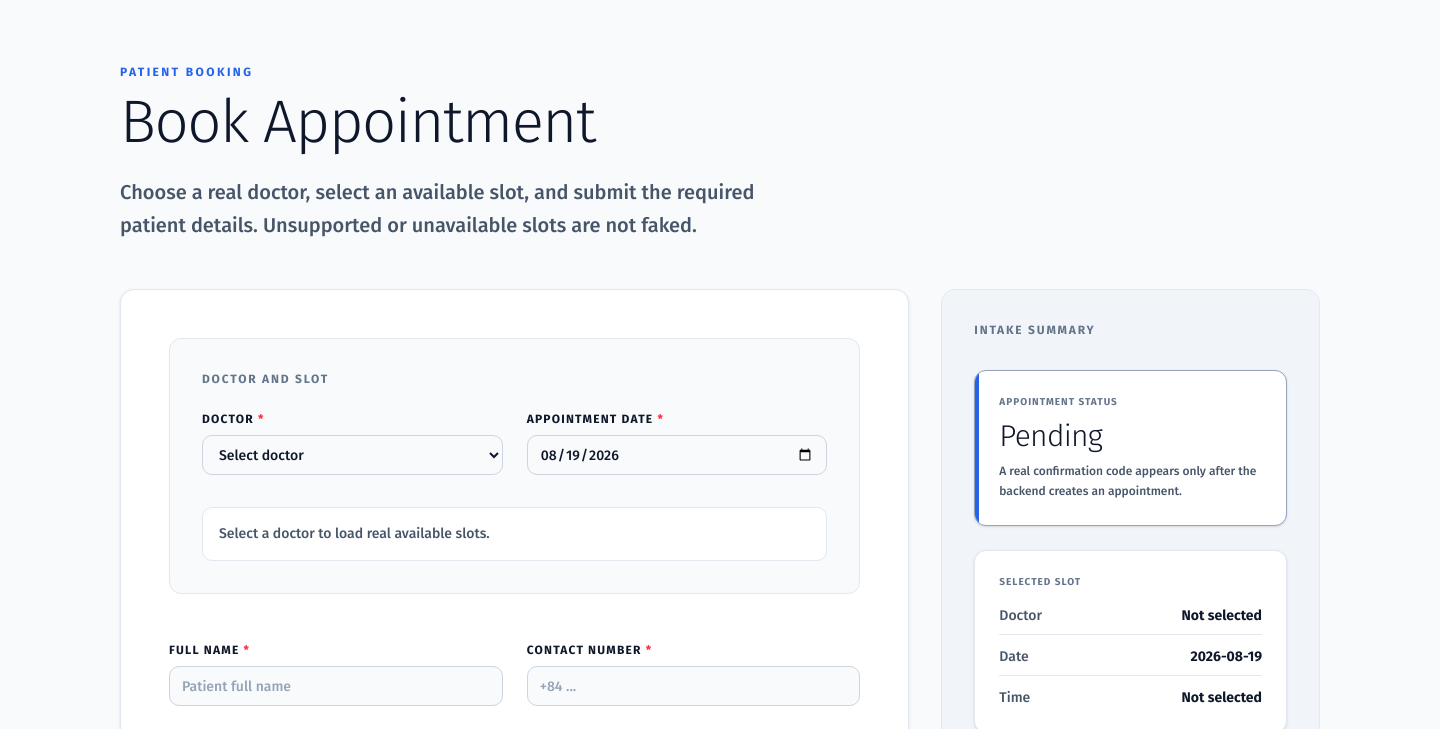
Test: PublicBookingPage › requires all patient, contact, address, and symptom fields and shows inline warnings
Select "Dr. Lan Tran - Cardiology" in the dropdown labelled "Doctor *" at coordinates (352, 455), box [202,435,503,475]
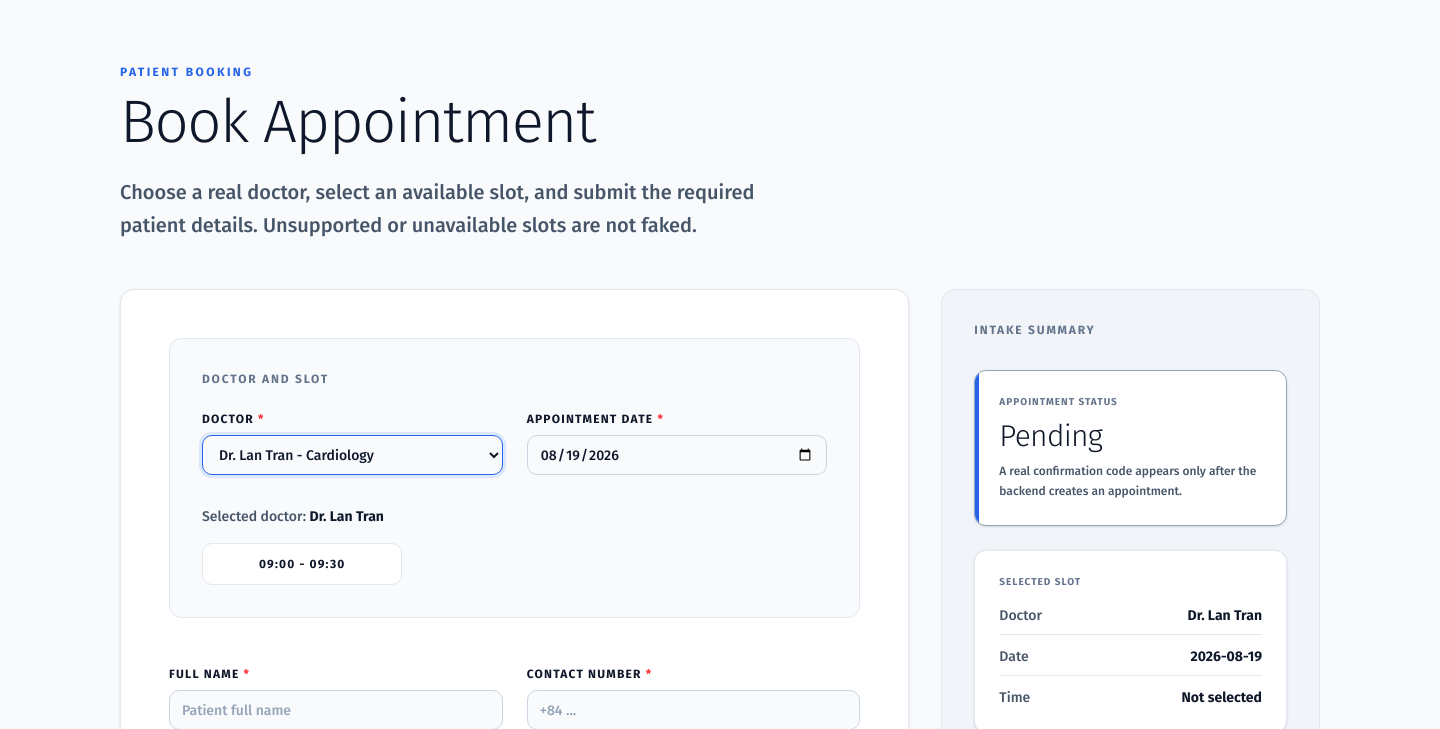
Click the button "09:00 - 09:30" at coordinates (302, 564), box [202,543,402,585]
(page scrolled)
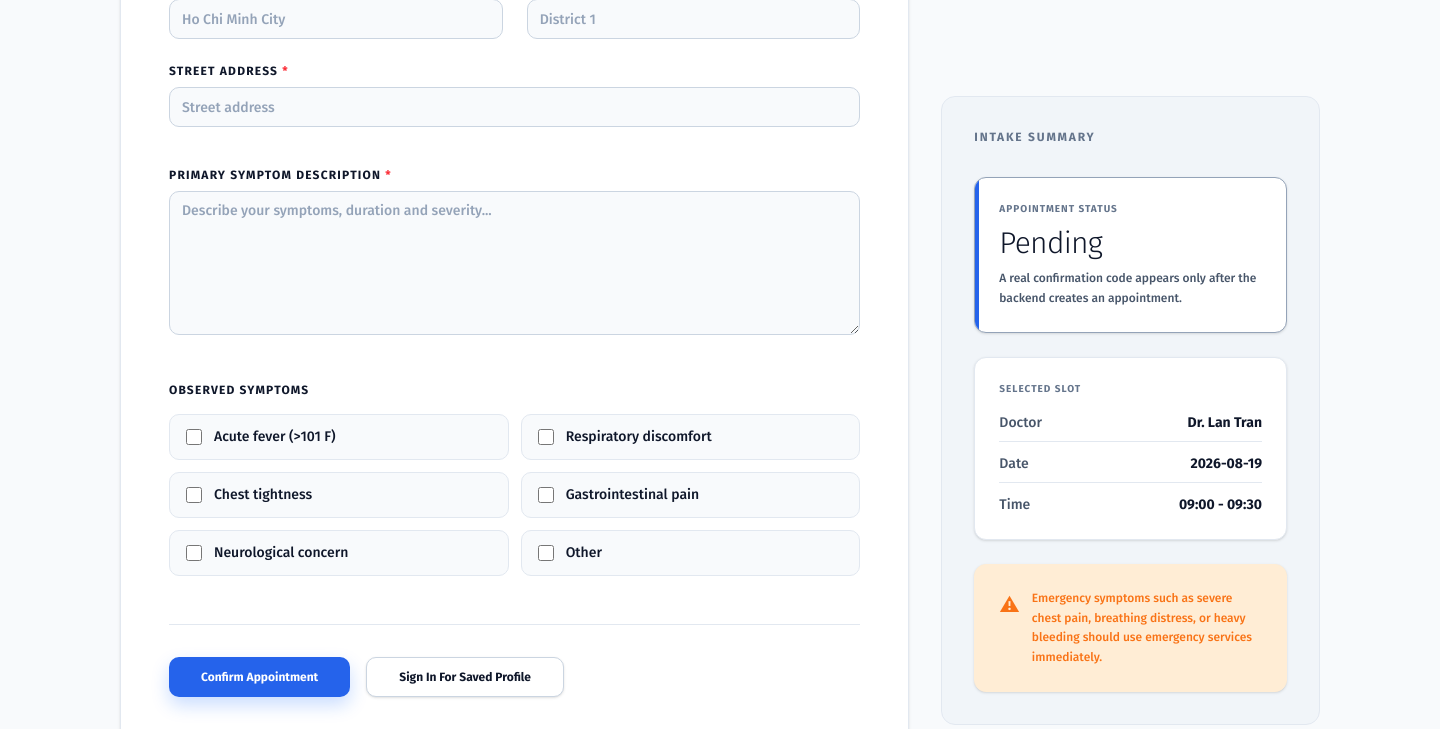
Click the button "Confirm Appointment" at coordinates (260, 677), box [169,657,350,697]
(page scrolled)
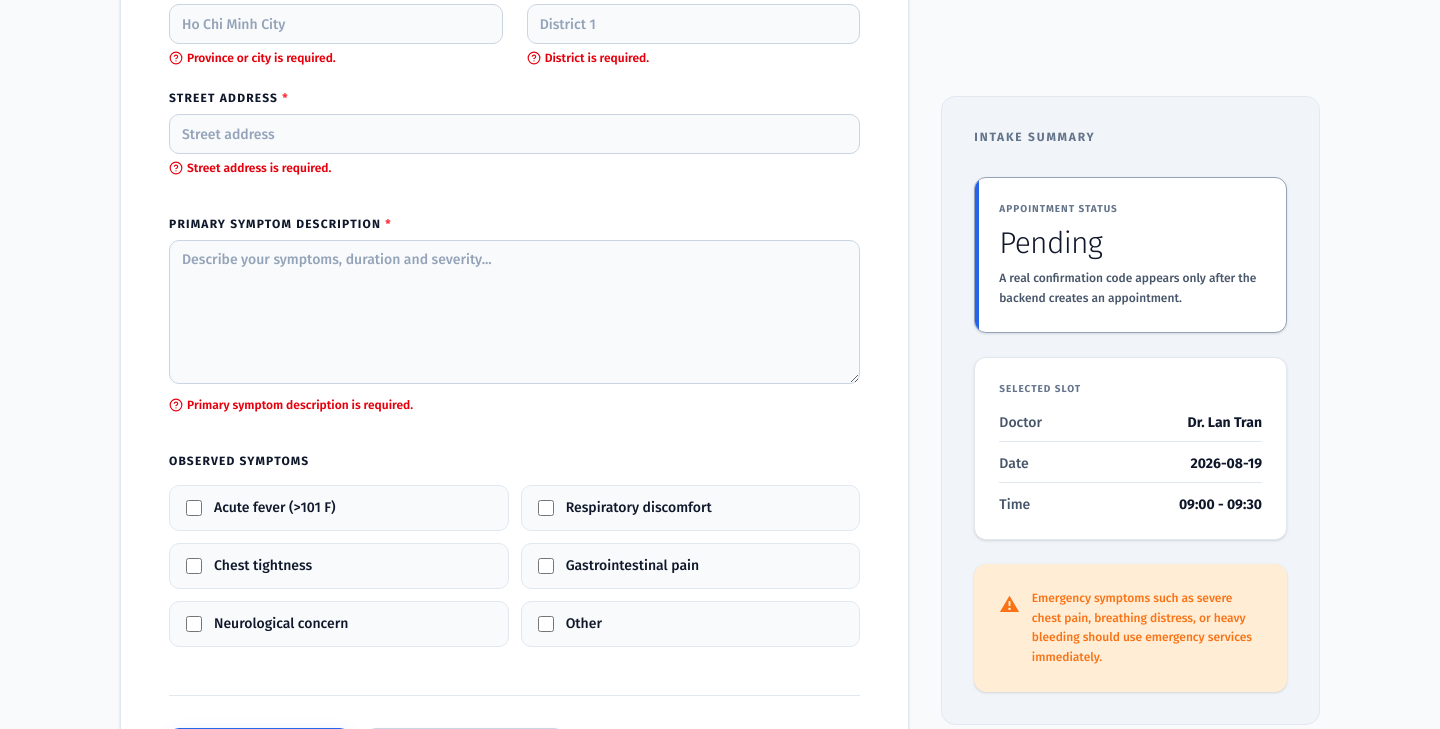
expect the text "Primary symptom description is required." is shown: met, box [187,397,413,413]
